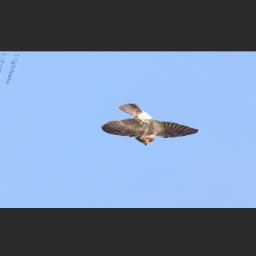Swallow: (94, 102, 208, 150)
